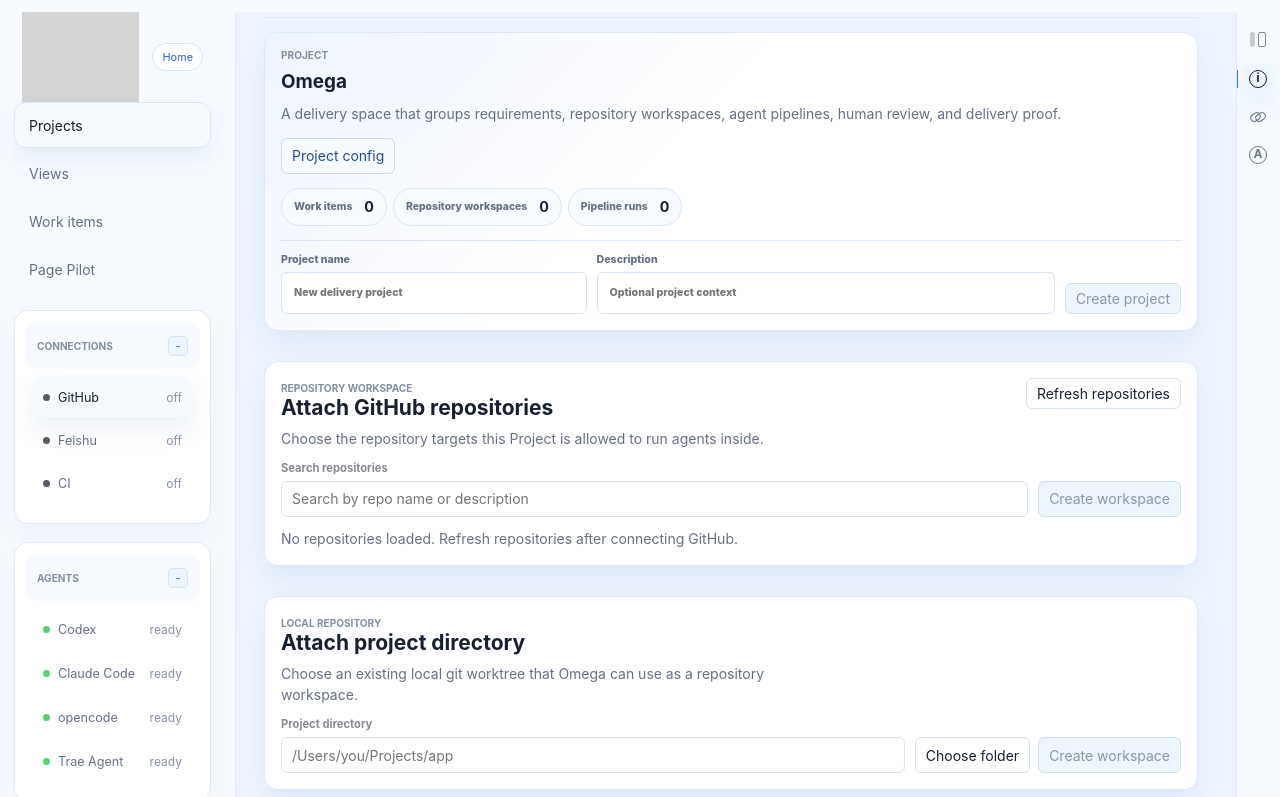
Scenario: App operator view › creates a local repository workspace from a selected project directory
(page scrolled)
Expected: the heading "Attach project directory" is shown, left=281, top=630, right=525, bottom=655
Click the button "Choose folder". click: point(972, 755)
box: left=915, top=737, right=1030, bottom=773
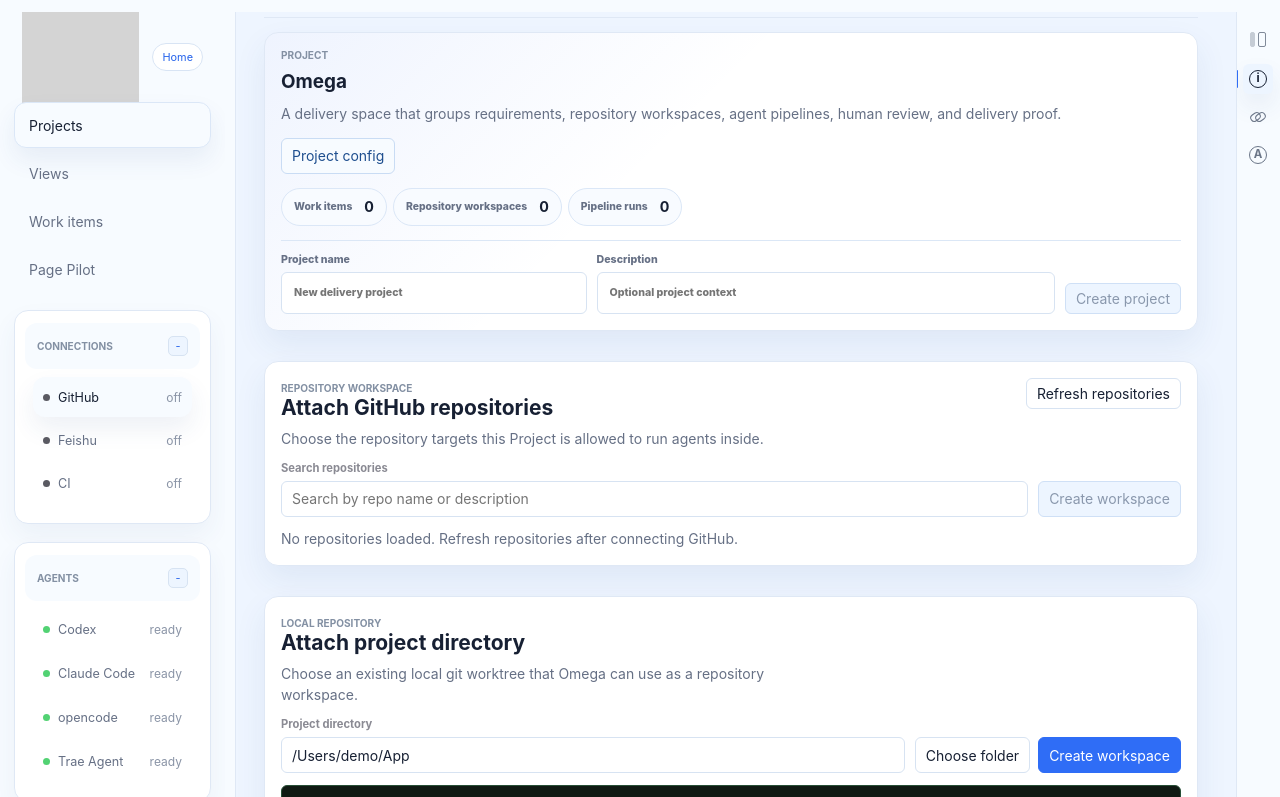
Result: the field showing "/Users/demo/App" is shown at left=281, top=737, right=905, bottom=773
Click the 2nd button "Create workspace". click: point(1110, 755)
box: left=1038, top=737, right=1181, bottom=773
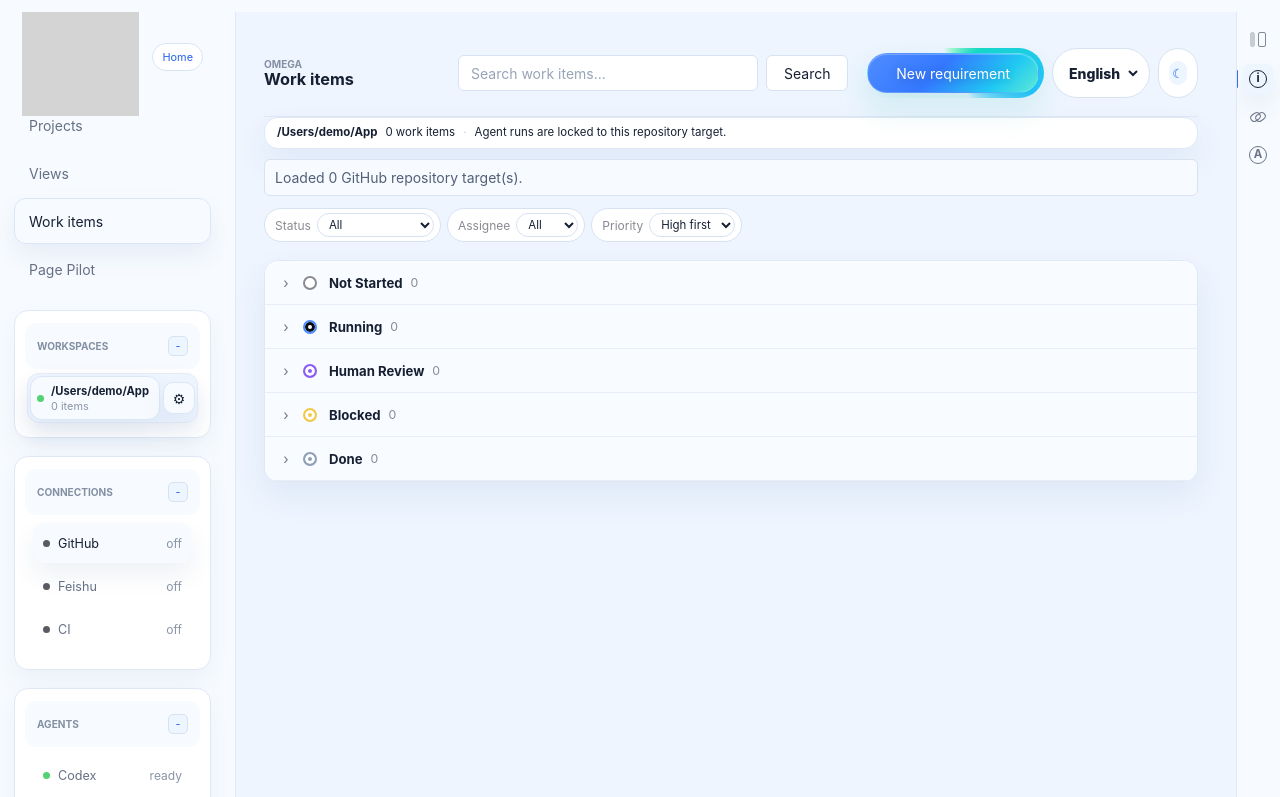
Result: the heading "Work items" is shown at left=264, top=69, right=354, bottom=89
Result: the button "/Users/demo/App 0 items" is shown at left=30, top=376, right=160, bottom=420
